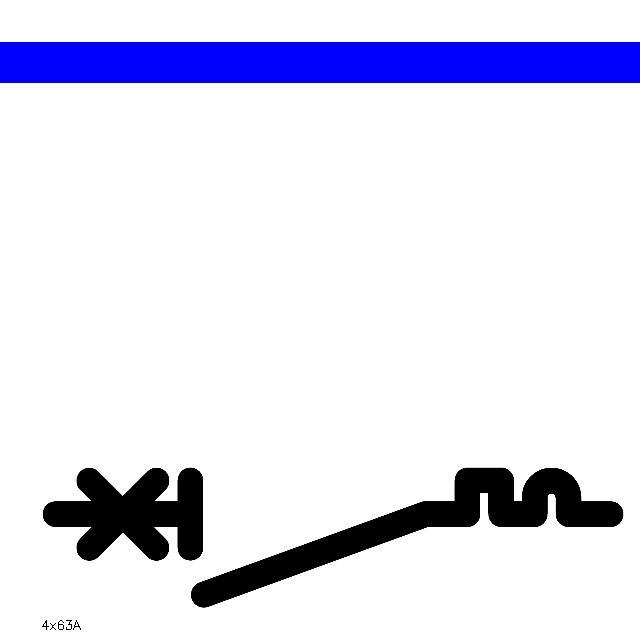interruptor_termomagnetico: (41, 466, 625, 609)
